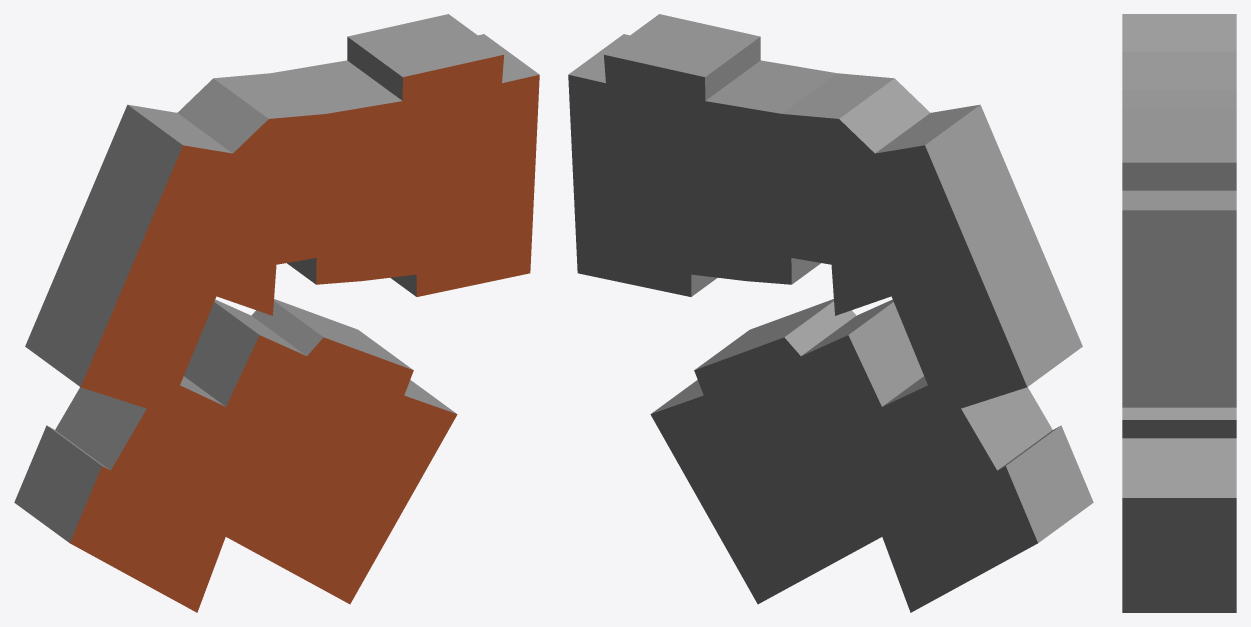
Rendered from construction_6066_assumed_A_Casa_h6m.obj.
The picture shows the model from 3 angles, left to right: view 1: azimuth 30°, elevation 25°; view 2: azimuth 150°, elevation 25°; view 3: azimuth 270°, elevation 25°; orthographic projection. The views are drawn at different scales.
Visible parts, largest first — view 1: construction_6066_assumed_A_Casa; view 2: construction_6066_assumed_A_Casa; view 3: construction_6066_assumed_A_Casa.
Part boxes in pixels (x1=…): construction_6066_assumed_A_Casa: x1=14, y1=14, x2=539, y2=612; construction_6066_assumed_A_Casa: x1=568, y1=14, x2=1093, y2=612; construction_6066_assumed_A_Casa: x1=1122, y1=14, x2=1236, y2=612.
Bounding box in the file's own units: 29.29 × 30.64 × 6.
